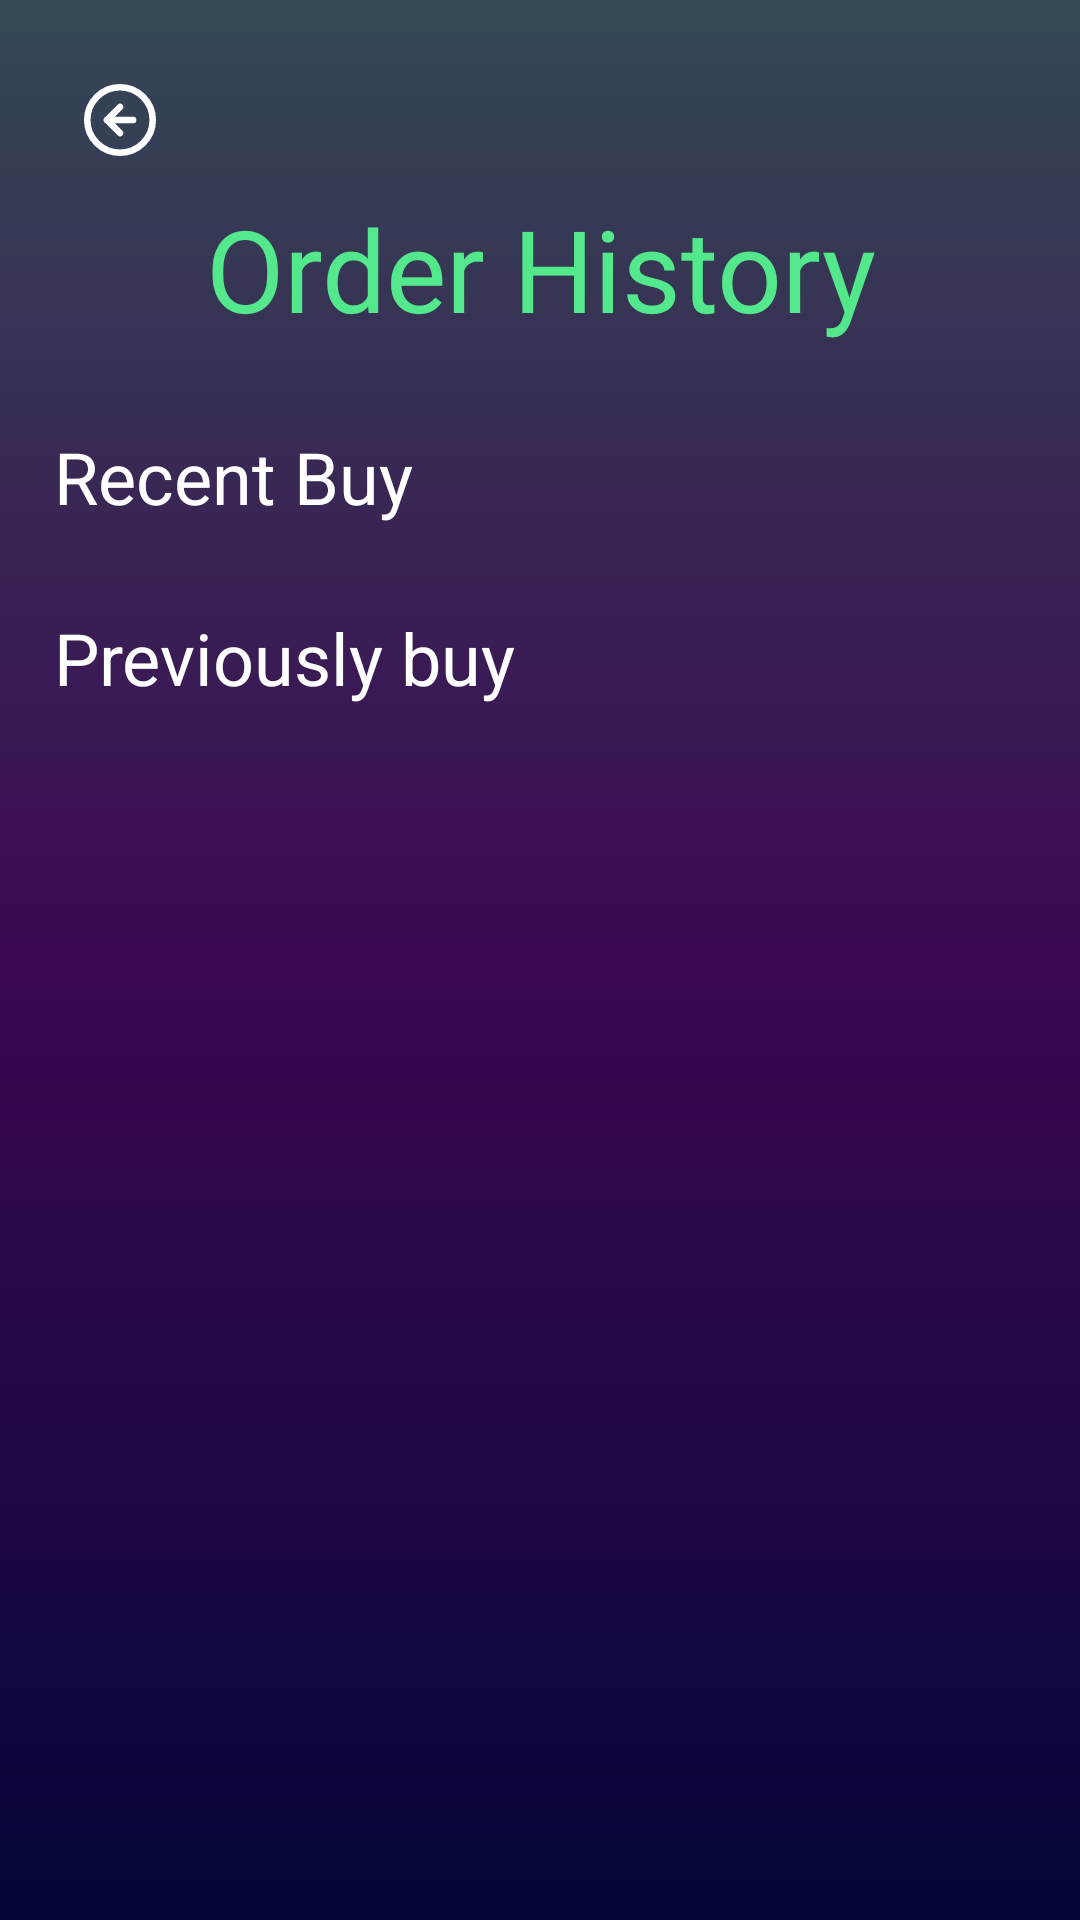

Screen size 1080 x 1920. Icon name, then its center in pixels as [x,y]:
arrow left: [120,120]
